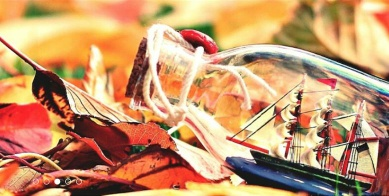ImgView: (1, 1, 388, 195)
